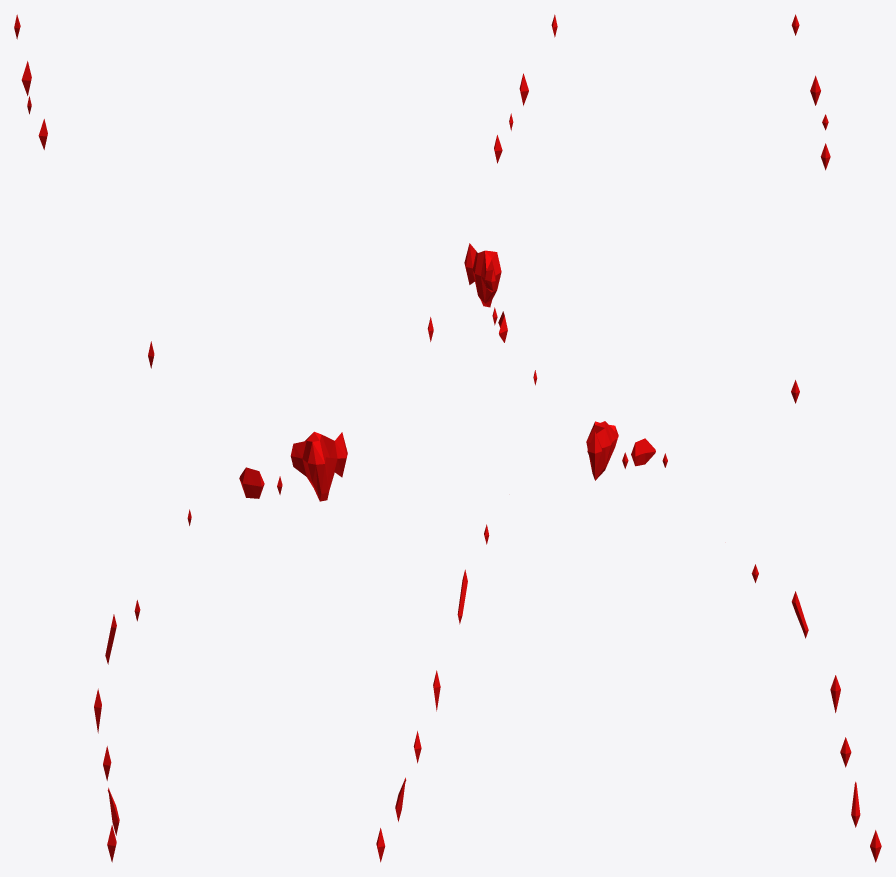
Rendered from arcB_coarse.dae.
3 renders of one model, left to right at view 1: azimuth 30°, elevation 25°; view 2: azimuth 150°, elevation 25°; view 3: azimuth 270°, elevation 25°, orthographic. The views are drawn at different scales.
Parts seen in each view (by area): view 1: arcB; view 2: arcB; view 3: arcB.
Part boxes in pixels (<box>): arcB: <box>14,14,347,862</box>; arcB: <box>376,14,557,862</box>; arcB: <box>586,14,881,862</box>.
Bounding box in the file's own units: 273 × 1102 × 374.
